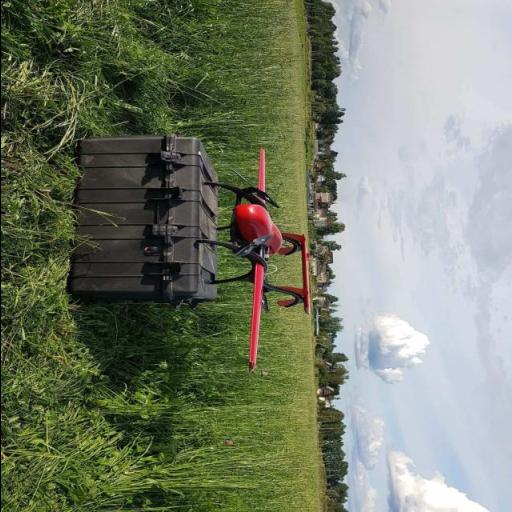uav: (206, 140, 320, 374)
